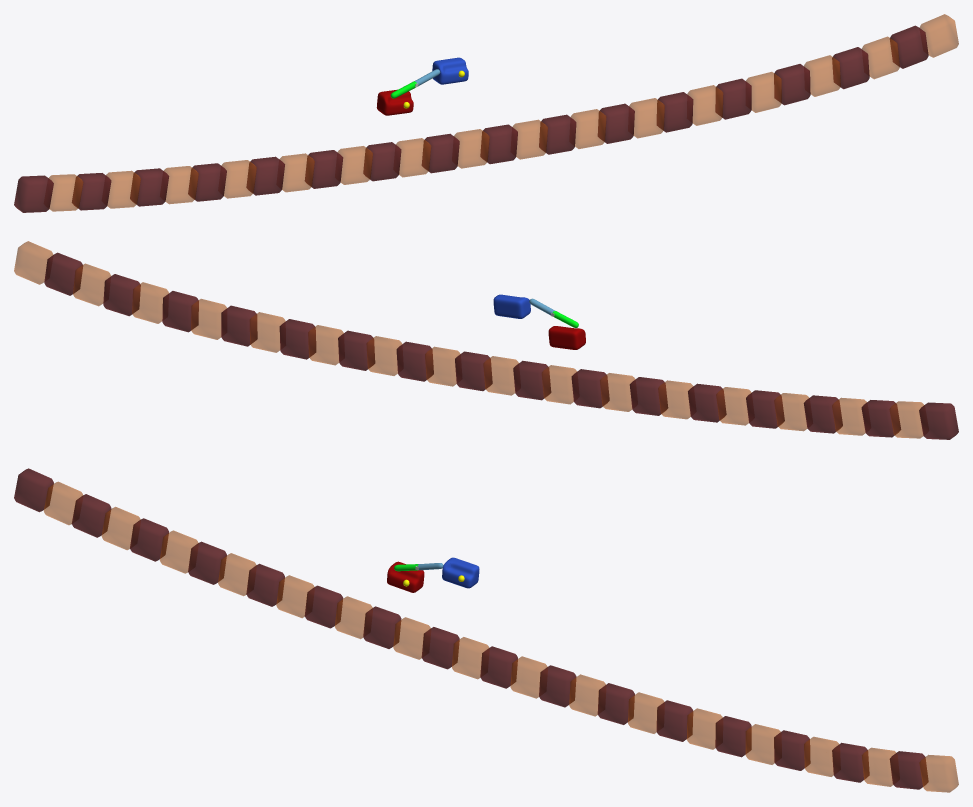
File: Kinesin.dae
3 views of the same model, one above another, from view 1: azimuth 30°, elevation 25°; view 2: azimuth 150°, elevation 25°; view 3: azimuth 330°, elevation 25° (orthographic).
Parts seen in each view (by area): view 1: TubulinPrimative (×32), Motor2, Motor1; view 2: TubulinPrimative (×32), Motor2, Motor1; view 3: TubulinPrimative (×32), Motor2, Motor1.
Boxes of the visible parts, x1,y1,x2,y2 form: TubulinPrimative (×32): (14, 14, 958, 212); Motor2: (432, 57, 468, 84); Motor1: (376, 89, 413, 115); TubulinPrimative (×32): (14, 241, 958, 439); Motor2: (493, 294, 530, 318); Motor1: (548, 326, 585, 349); TubulinPrimative (×32): (14, 468, 958, 792); Motor2: (442, 557, 479, 588); Motor1: (387, 561, 424, 592).
Size of the model in its own units: 15.99 by 1.93 by 0.45.
